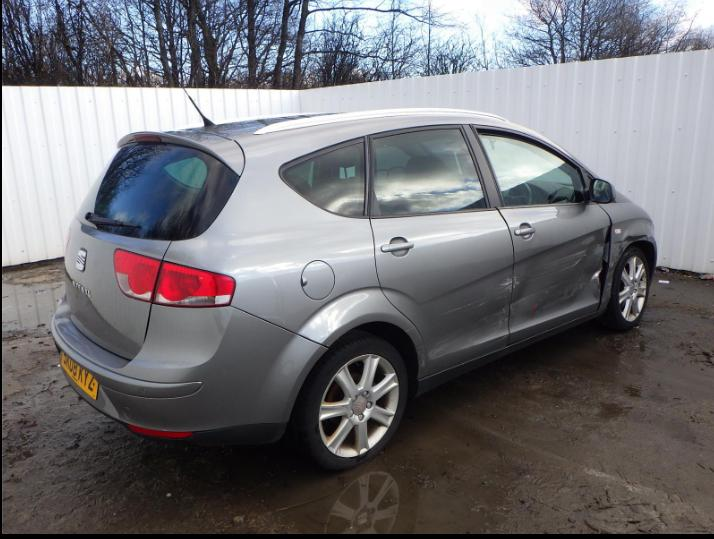Back-bumper: (52, 294, 329, 446)
Back-door: (367, 123, 514, 376)
Back-wheel: (295, 330, 408, 469)
Back-window: (371, 129, 487, 215), (283, 142, 366, 216)
Back-windshield: (77, 142, 239, 241)
Fender: (598, 203, 655, 306)
Front-bumper: (628, 240, 658, 287)
Front-door: (462, 124, 612, 345)
Front-wheel: (598, 245, 650, 330)
Front-window: (477, 128, 585, 206)
Hood: (615, 191, 635, 203)
License-plate: (61, 352, 99, 401)
Mirror: (580, 170, 617, 204)
Quarter-panel: (164, 217, 427, 380)
Rocker-panel: (414, 304, 608, 399)
Roof: (180, 108, 489, 152)
Tail-light: (114, 248, 236, 308), (66, 227, 71, 250)
Trunk: (65, 217, 171, 361), (117, 130, 244, 175)
